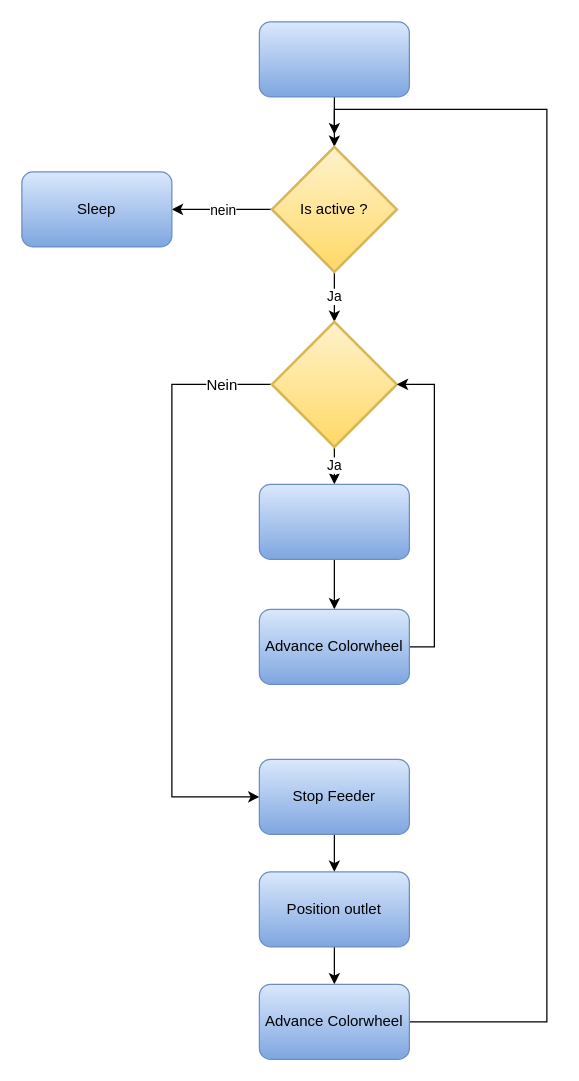
The diagram is 579 pixels wide and 1081 high, and some of its shapes have lost their labels. Each missing label, with the box of its shape:
Init GPIOs and outlet: (258, 21, 409, 97)
Is Color == NA?: (270, 320, 398, 448)
Set Feeder: (258, 483, 409, 559)
